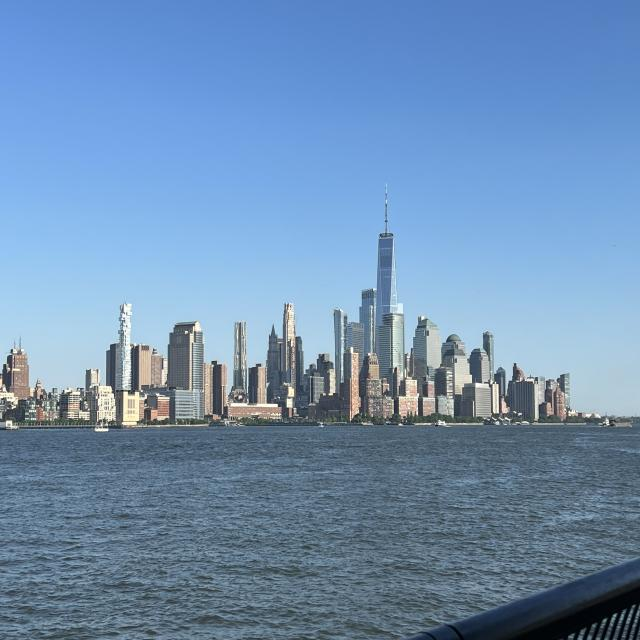WTC: (376, 183, 398, 314)
